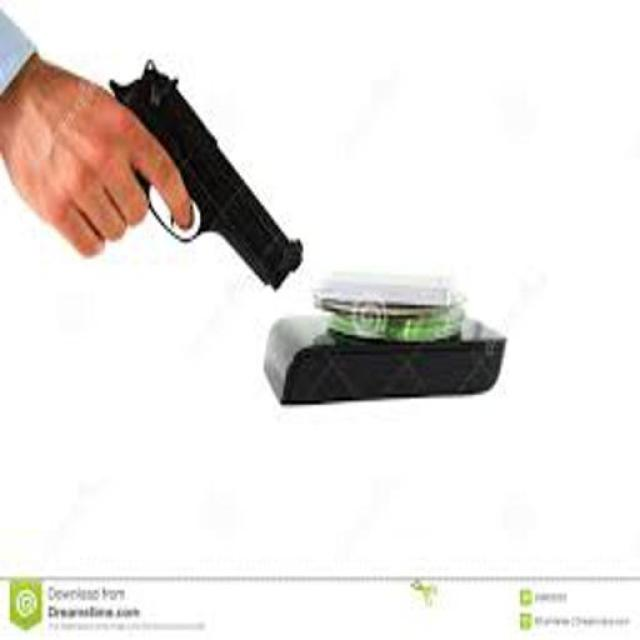pistol: (63, 46, 308, 305)
